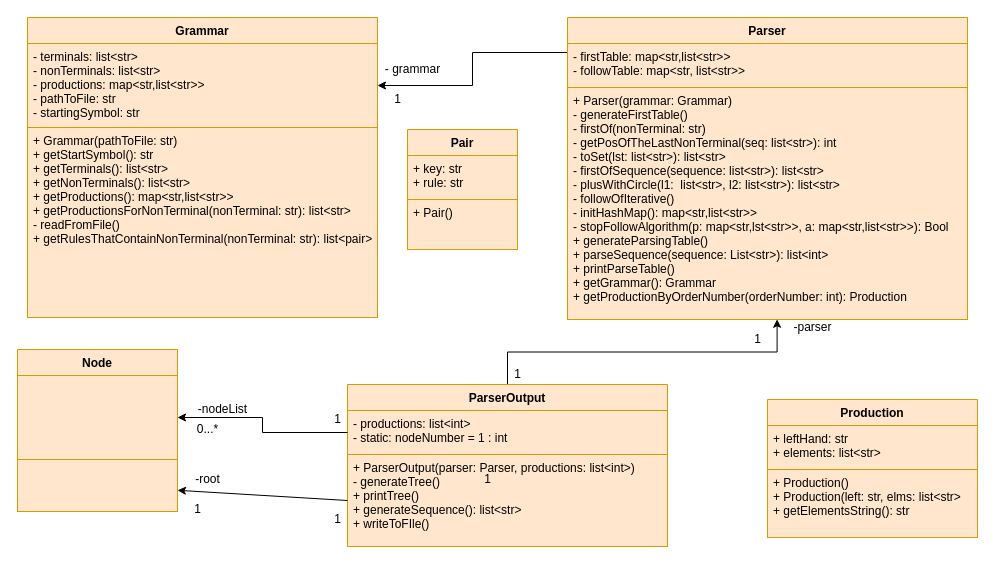
The diagram is 995 pixels wide and 567 high, and some of its shapes have lost their labels. Here are the shapes that lost their labels. From the top down, the centre of each, then its label:
the point at 97,417: - index: int - value: str - father: int - sibling: int - hasRight: bool
the point at 97,485: + getters(): fieldType + setters(field: fieldType)
